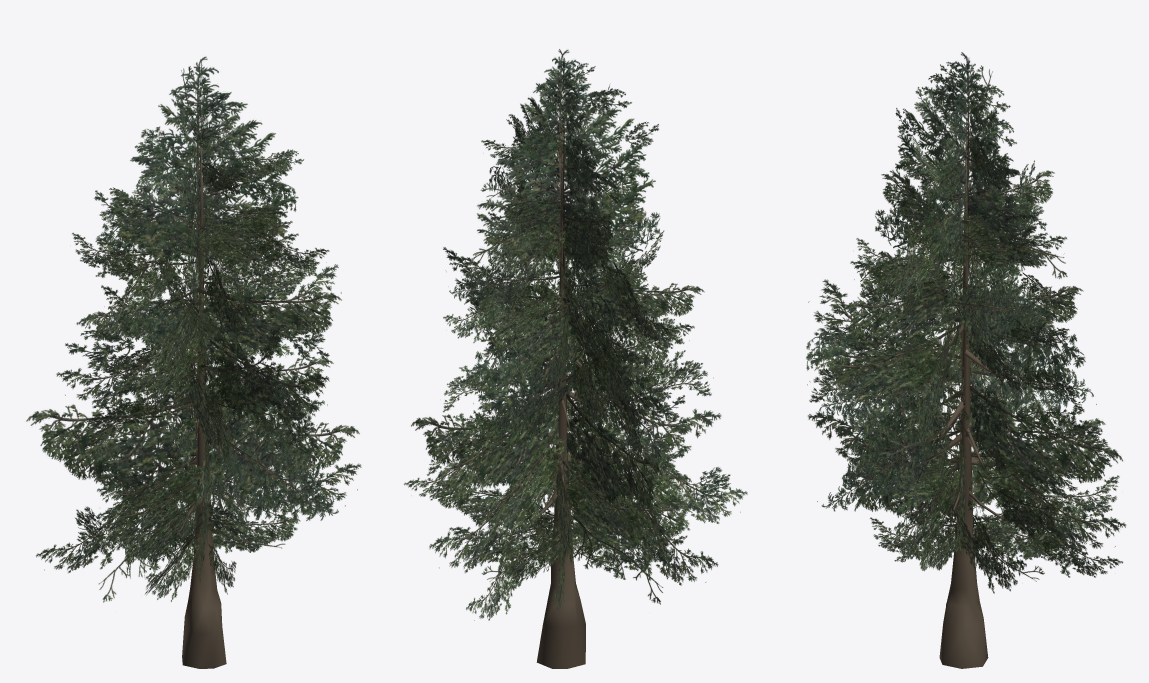
Rendered from pine_c.glb.
3 views of the same model, side by side, from view 1: azimuth 30°, elevation 25°; view 2: azimuth 150°, elevation 25°; view 3: azimuth 270°, elevation 25° (orthographic).
Visible parts, largest first — view 1: Tree_Branches_01.001_w; view 2: Tree_Branches_01.001_w; view 3: Tree_Branches_01.001_w.
Boxes of the visible parts, left/top/right/bottom form: Tree_Branches_01.001_w: left=26, top=56, right=361, bottom=668; Tree_Branches_01.001_w: left=404, top=49, right=747, bottom=668; Tree_Branches_01.001_w: left=806, top=52, right=1126, bottom=668.
Bounding box in the file's own units: 6.29 × 11 × 5.82.
2 materials, 2 textured.
